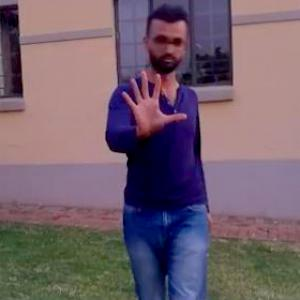follow_hand: (117, 65, 187, 146)
